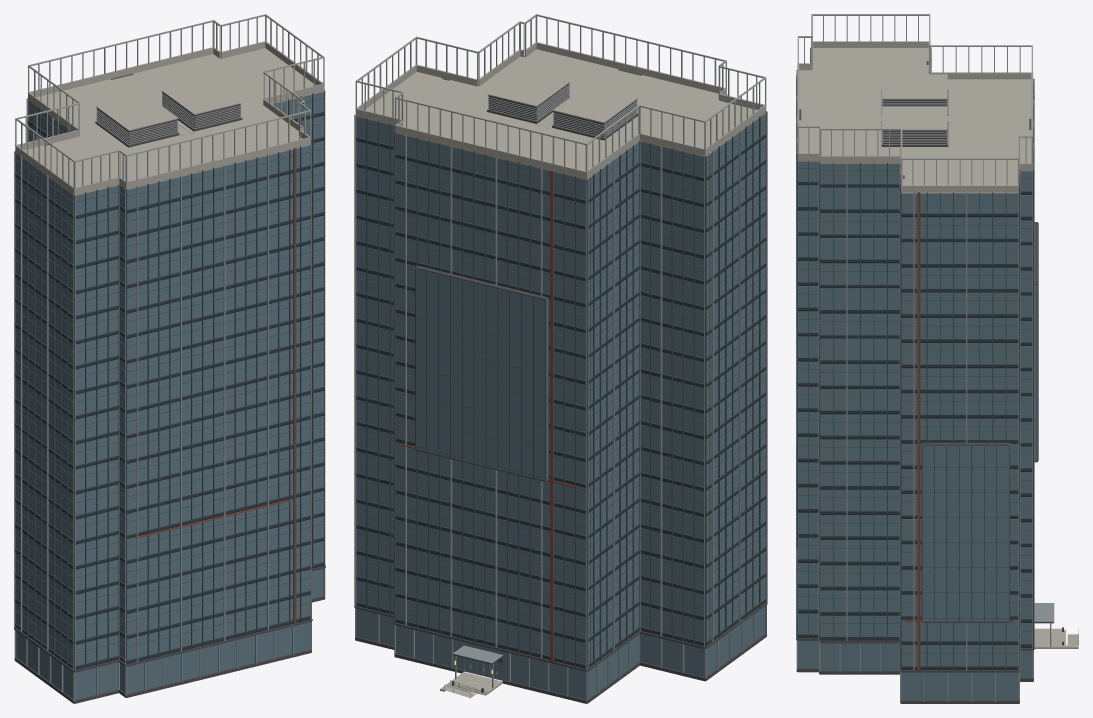
The model's file is building-t1-lod0.glb.
3 renders of one model, left to right at view 1: azimuth 30°, elevation 25°; view 2: azimuth 150°, elevation 25°; view 3: azimuth 270°, elevation 25°, orthographic. The views are drawn at different scales.
Parts seen in each view (by area): view 1: building-t1_MATERIAL_BATCH; view 2: building-t1_MATERIAL_BATCH; view 3: building-t1_MATERIAL_BATCH.
Part boxes in pixels (x1,y1,x2,y2): building-t1_MATERIAL_BATCH: (14, 14, 325, 703); building-t1_MATERIAL_BATCH: (354, 14, 767, 703); building-t1_MATERIAL_BATCH: (796, 14, 1078, 703).
Size of the model in its own units: 56.51 by 97.5 by 45.84.
